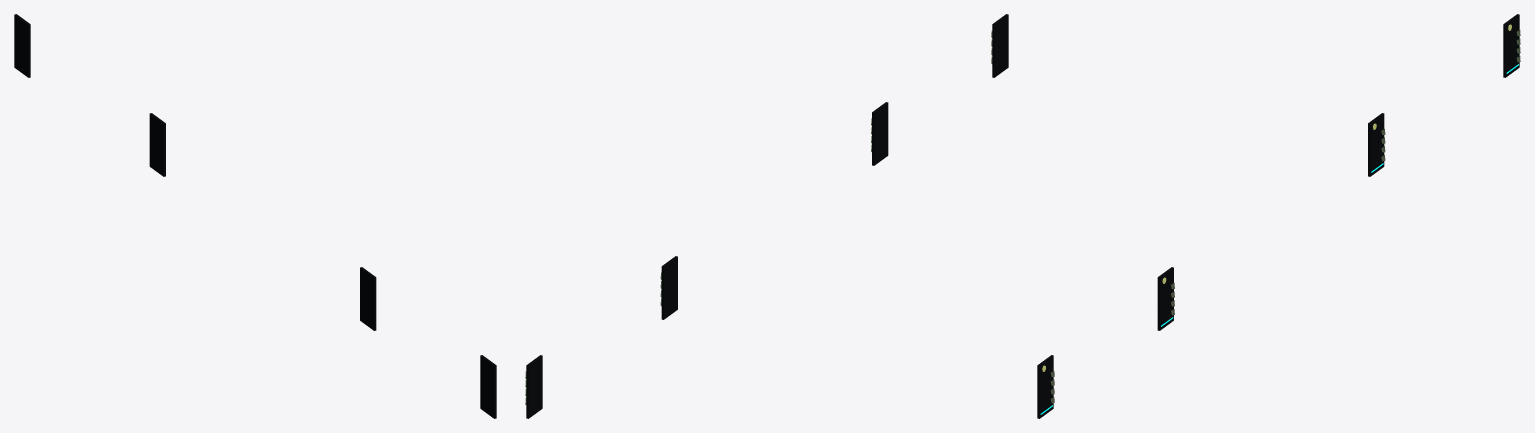
Rendered from tt_gallery_nature_relief.glb.
The picture shows the model from 3 angles, left to right: view 1: azimuth 30°, elevation 25°; view 2: azimuth 150°, elevation 25°; view 3: azimuth 330°, elevation 25°; orthographic projection.
Visible parts, largest first — view 1: Gallery_CrestPanel; view 2: Gallery_CrestPanel; view 3: Gallery_CrestPanel.
Boxes of the visible parts, left/top/right/bottom form: Gallery_CrestPanel: left=14, top=14, right=496, bottom=418; Gallery_CrestPanel: left=526, top=14, right=1008, bottom=418; Gallery_CrestPanel: left=1037, top=14, right=1519, bottom=418.
Size of what is drawn, in the model's own units: 0.2895 by 1.95 by 31.94.
4 materials, 1 textured.
